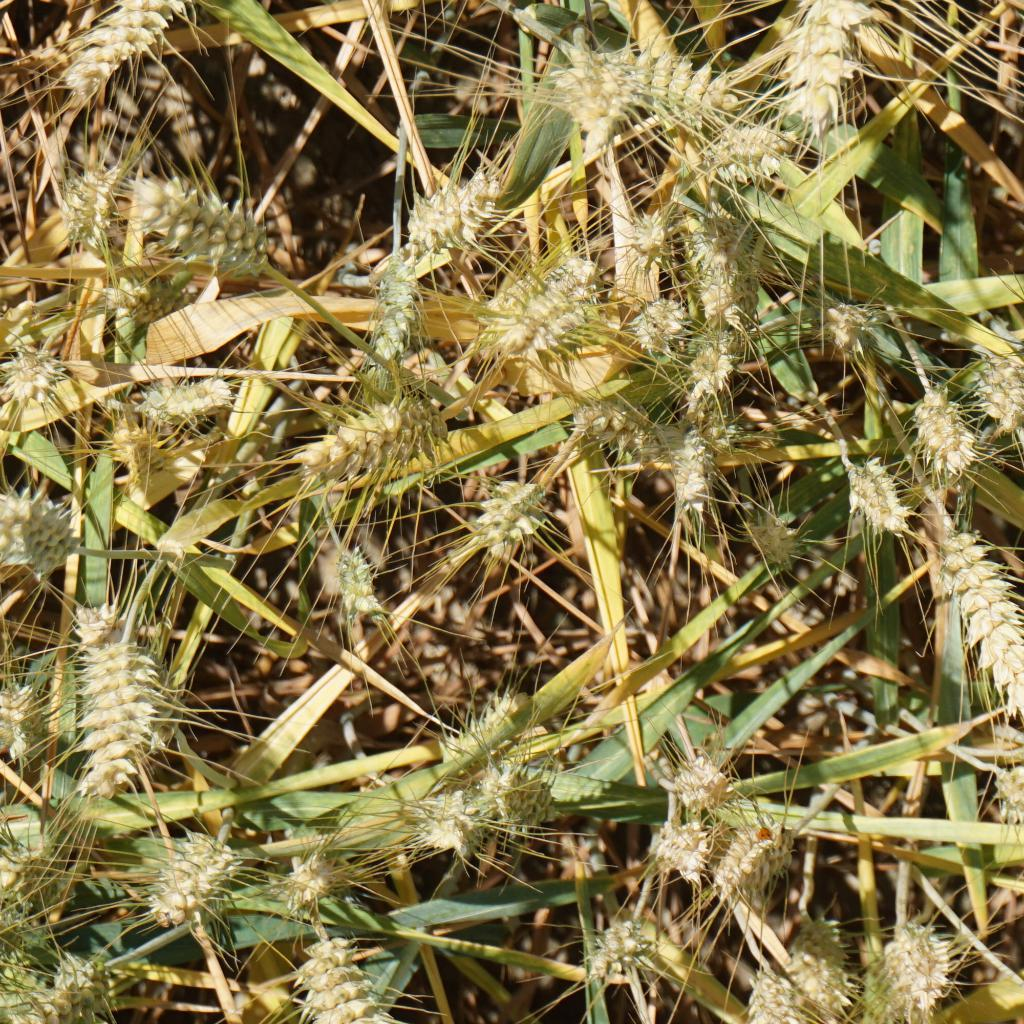0-0: (54, 0, 197, 105), (80, 634, 171, 792), (941, 539, 1024, 708), (142, 179, 287, 270), (786, 0, 887, 129), (142, 827, 249, 943), (598, 35, 735, 124), (399, 159, 520, 255), (294, 402, 448, 477), (706, 808, 817, 904), (108, 641, 192, 753), (290, 934, 389, 1020), (688, 116, 800, 188), (563, 388, 672, 460), (482, 265, 583, 341), (0, 483, 82, 567), (881, 920, 950, 1019), (124, 354, 234, 415), (464, 472, 548, 550), (410, 781, 488, 863), (691, 246, 768, 329), (658, 425, 726, 517), (109, 271, 213, 331), (539, 49, 621, 124), (840, 448, 912, 531), (365, 250, 425, 348), (436, 691, 526, 755), (320, 537, 385, 623), (52, 159, 112, 247), (0, 824, 68, 900), (273, 849, 353, 913), (111, 413, 175, 490), (674, 755, 743, 826), (0, 668, 48, 769), (591, 907, 653, 985), (62, 935, 115, 1024), (681, 200, 751, 264), (487, 764, 559, 826), (921, 389, 974, 467), (972, 341, 1024, 420), (792, 921, 844, 998), (979, 746, 1024, 832), (668, 338, 731, 399), (0, 335, 60, 399), (655, 816, 715, 880), (623, 292, 682, 355), (0, 958, 56, 1024), (815, 297, 873, 355), (740, 969, 790, 1024), (752, 512, 802, 566), (630, 208, 676, 263), (68, 595, 113, 640)
